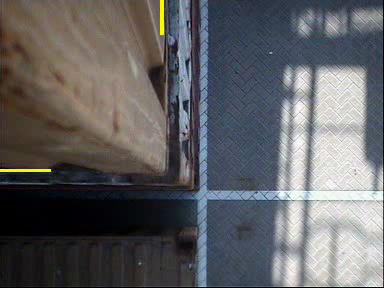groundmarker_2: (196, 153, 235, 233), (198, 1, 224, 41)
